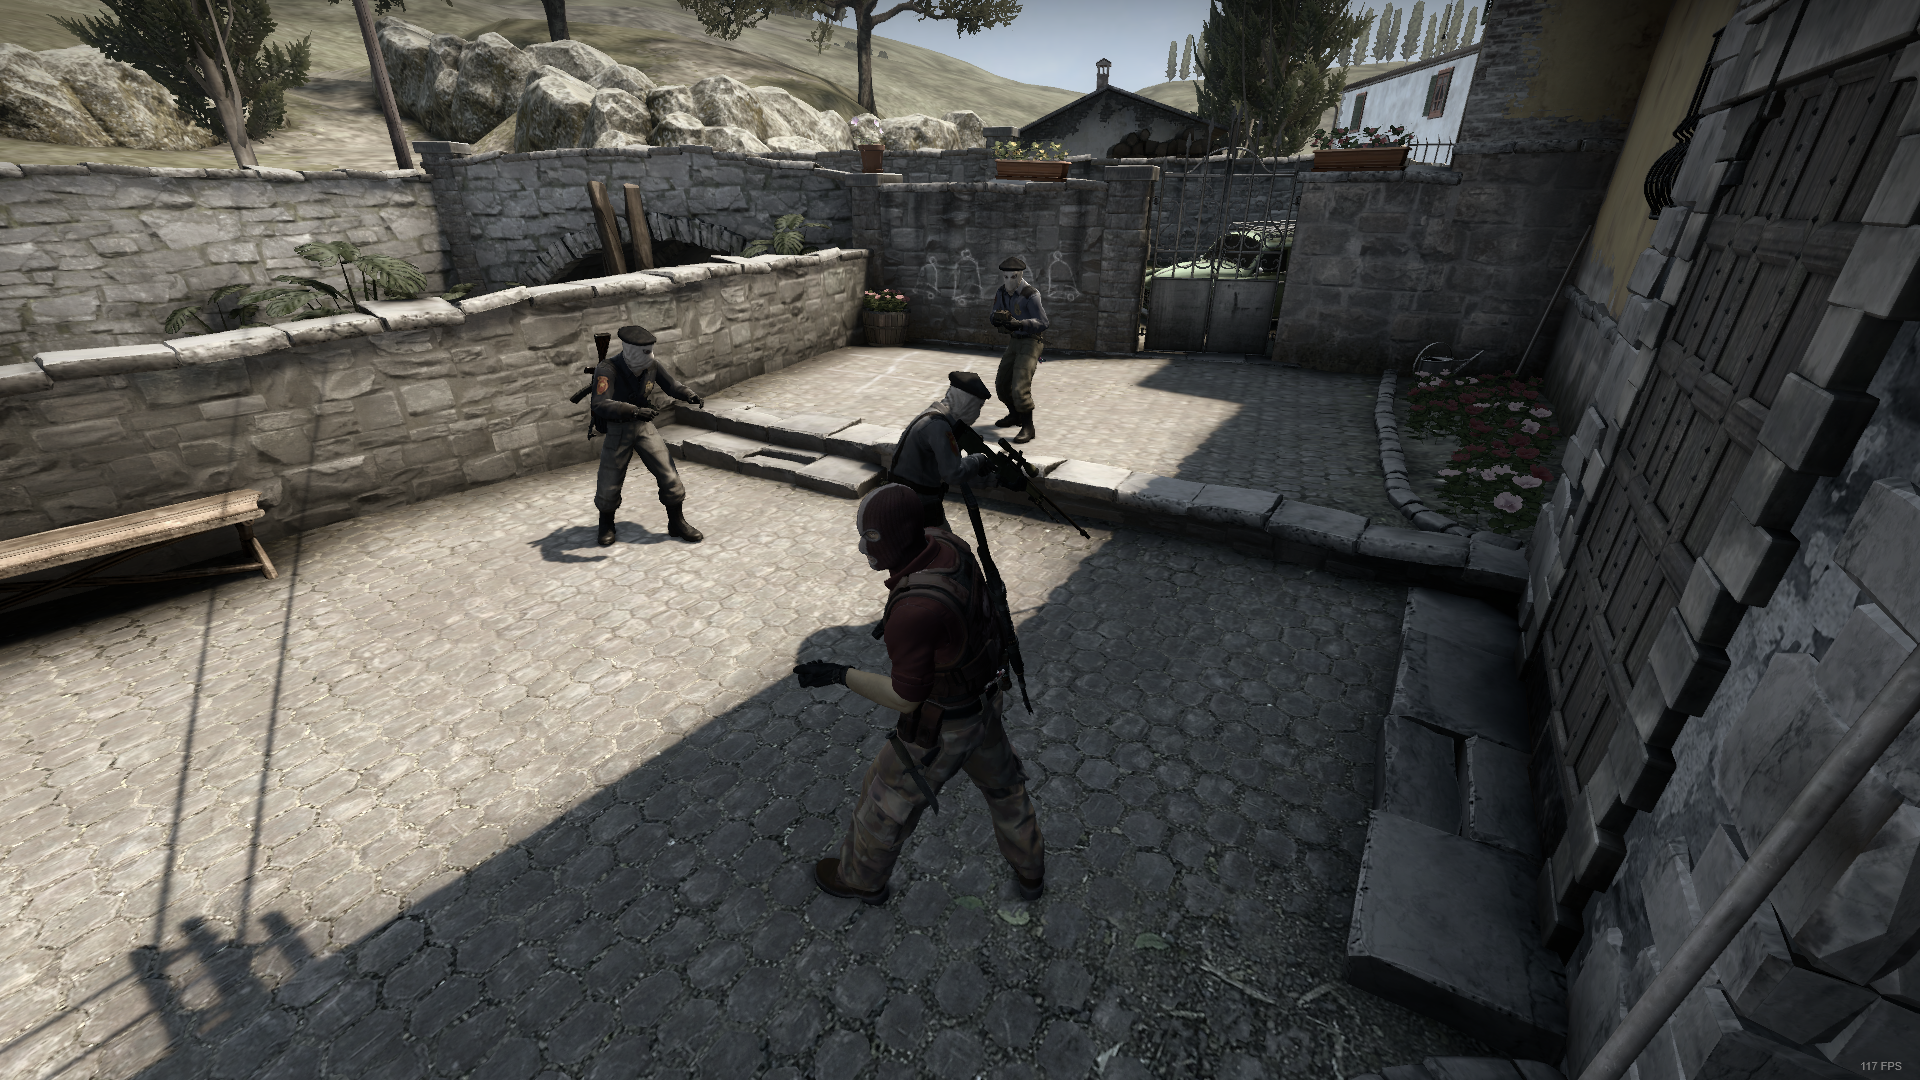t: (587, 327, 704, 549), (880, 369, 992, 566), (986, 257, 1047, 443)
